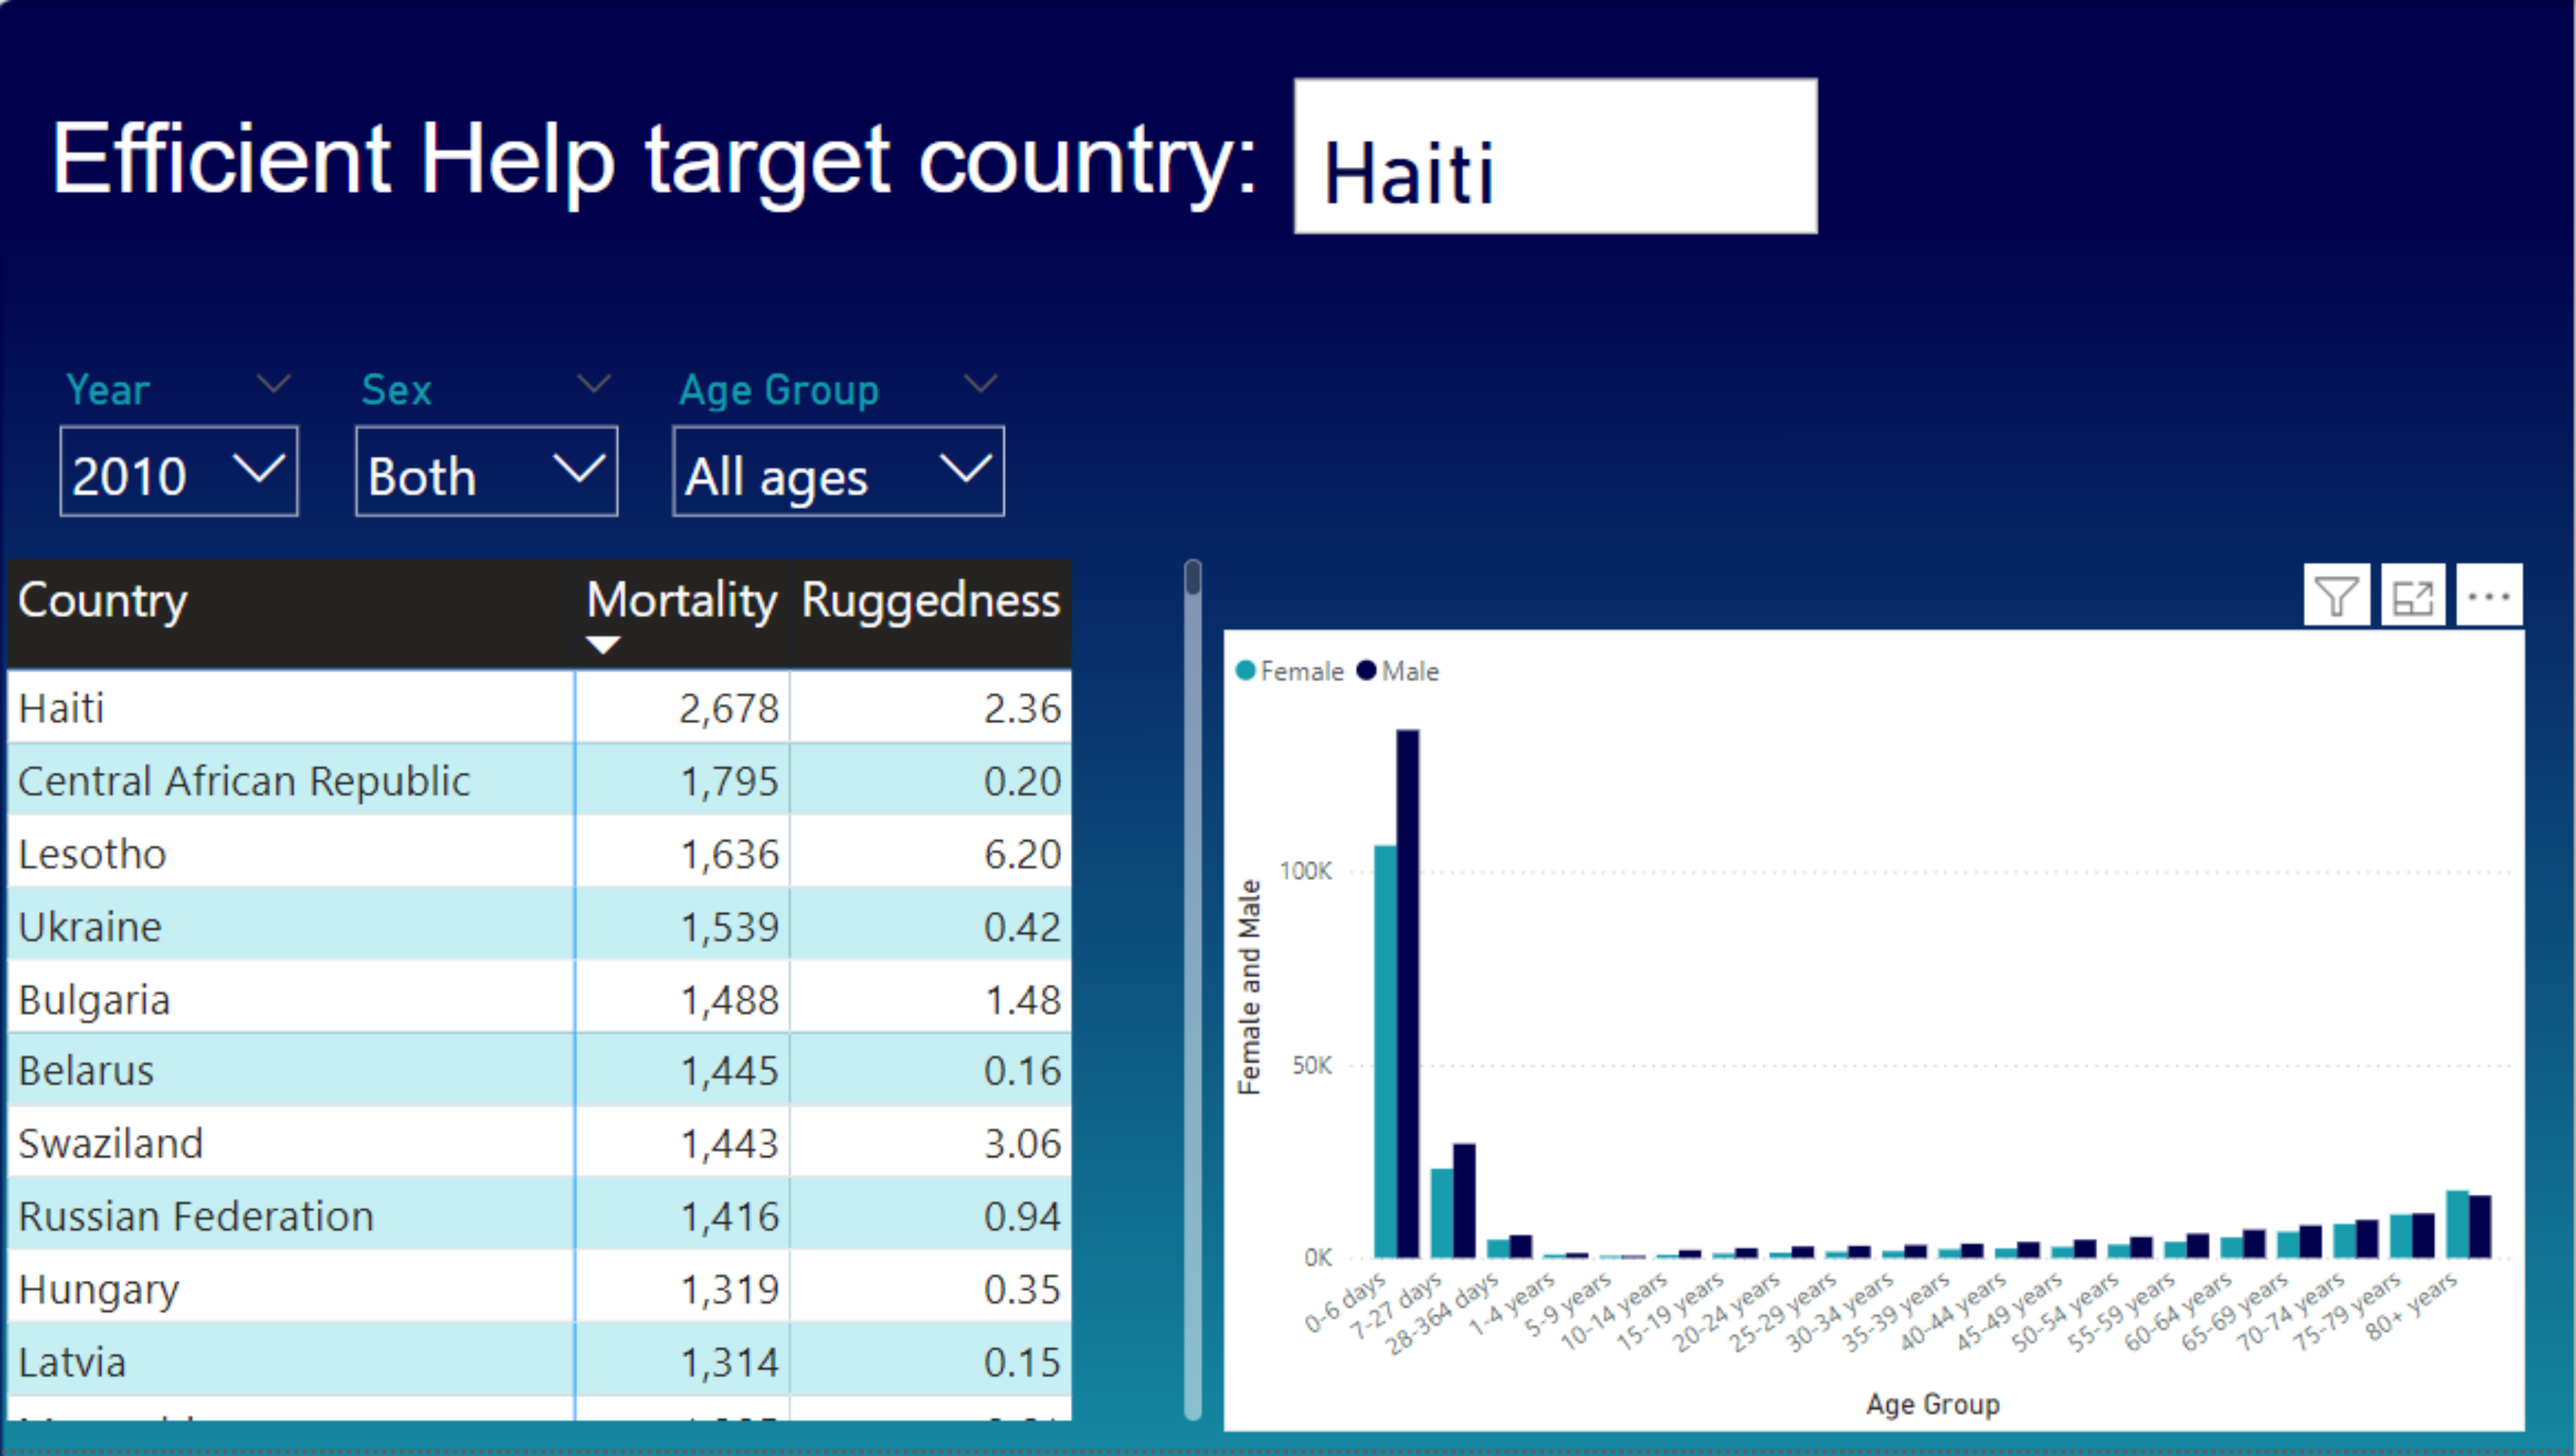

What the dashboard file says about the page in this screenshot:
{"tool":"powerbi","page":{"name":"Page 1","canvas":[1280,720],"ordinal":0},"visuals":[{"type":"shape","title":"Efficient Help","box":[0,0,1280,180],"z":0},{"type":"textbox","box":[14.3,21.4,1231.4,68.6],"z":1000},{"type":"pivotTable","title":"Mortality in 2010 in all ages and gender","fields":{"Rows":["RUGGEDNESS.country"],"Values":["MORTALITY.DeathRate in 2010 for both sex","Avg(RUGGEDNESS.rugged)"]},"box":[0,195.7,555.7,438.6],"z":2000},{"type":"lineClusteredColumnComboChart","fields":{"Category":["Age_groups.Age_Group"],"Y":["MORTALITY.Female_DathReate_2010_perAges_male","MORTALITY.Male_DeathReate_2010_perAges_male"],"Y2":["MORTALITY.Both_DeathReate_2010_perAges_male"]},"box":[555.7,221.4,724.3,438.6],"z":3000},{"type":"cardVisual","fields":{"Data":["MORTALITY.Selected","MORTALITY.Top_mortality","MORTALITY.Top_country"]},"box":[555.7,494,521.4,226.4],"z":3501}]}

Visuals, with their boxes in screenshot pixels (x1, y1, x2, y2), scaled from the page's 1280x720 canvas onto the 2576x1456 screenshot:
"Efficient Help" shape: [x1=0, y1=0, x2=2575, y2=364]
textbox: [x1=29, y1=43, x2=2507, y2=182]
"Mortality in 2010 in all ages and gender" pivotTable: [x1=0, y1=396, x2=1118, y2=1283]
lineClusteredColumnComboChart - Age_groups.Age_Group x MORTALITY.Female_DathReate_2010_perAges_male: [x1=1118, y1=447, x2=2575, y2=1334]
cardVisual - MORTALITY.Selected x MORTALITY.Top_mortality: [x1=1118, y1=999, x2=2167, y2=1455]
